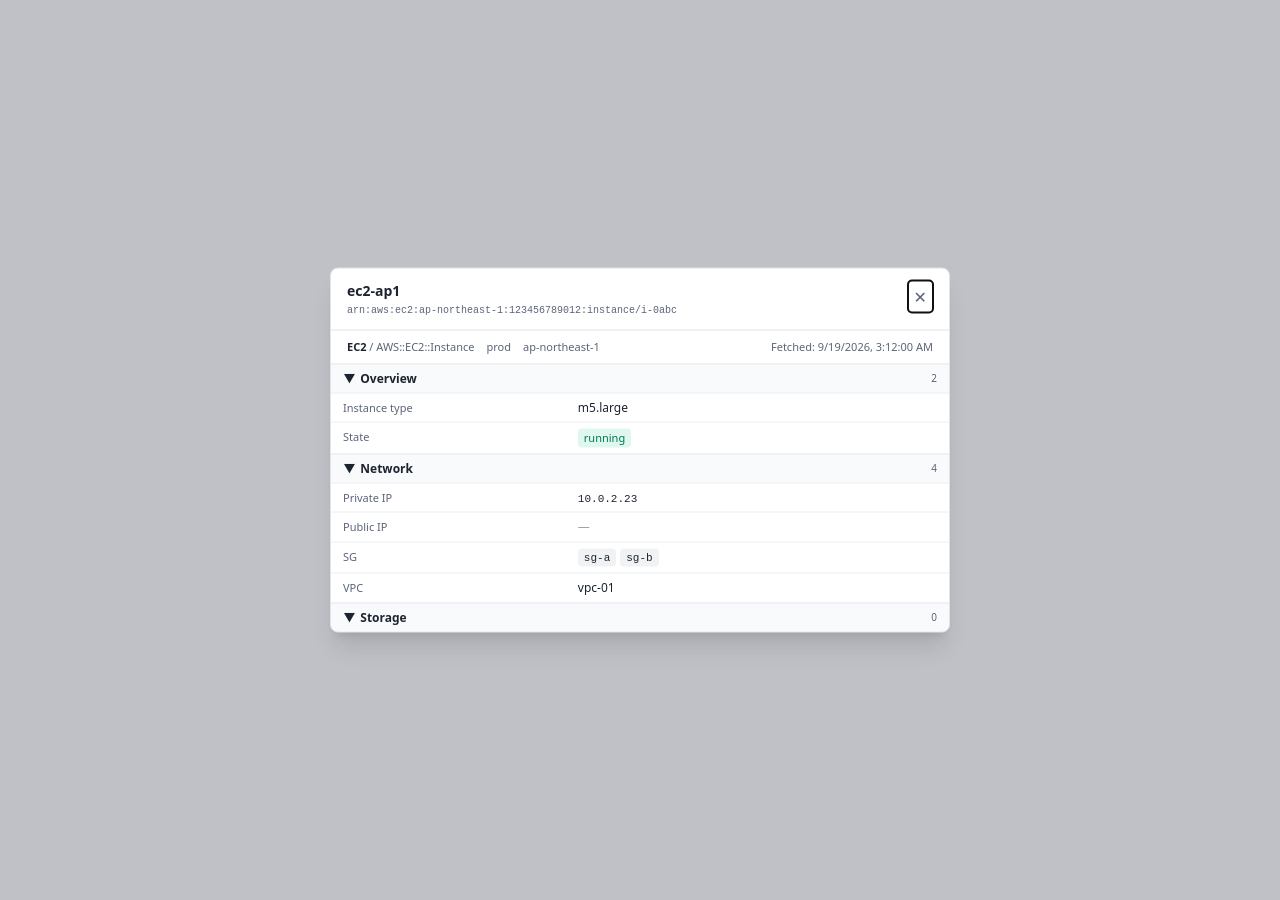
Test: the parameter popup › a category can be collapsed
Expected: the text "m5.large" is shown, 578,398 -> 628,415
Click the button "▶ Overview 2": x=389, y=378 331,364 -> 949,392
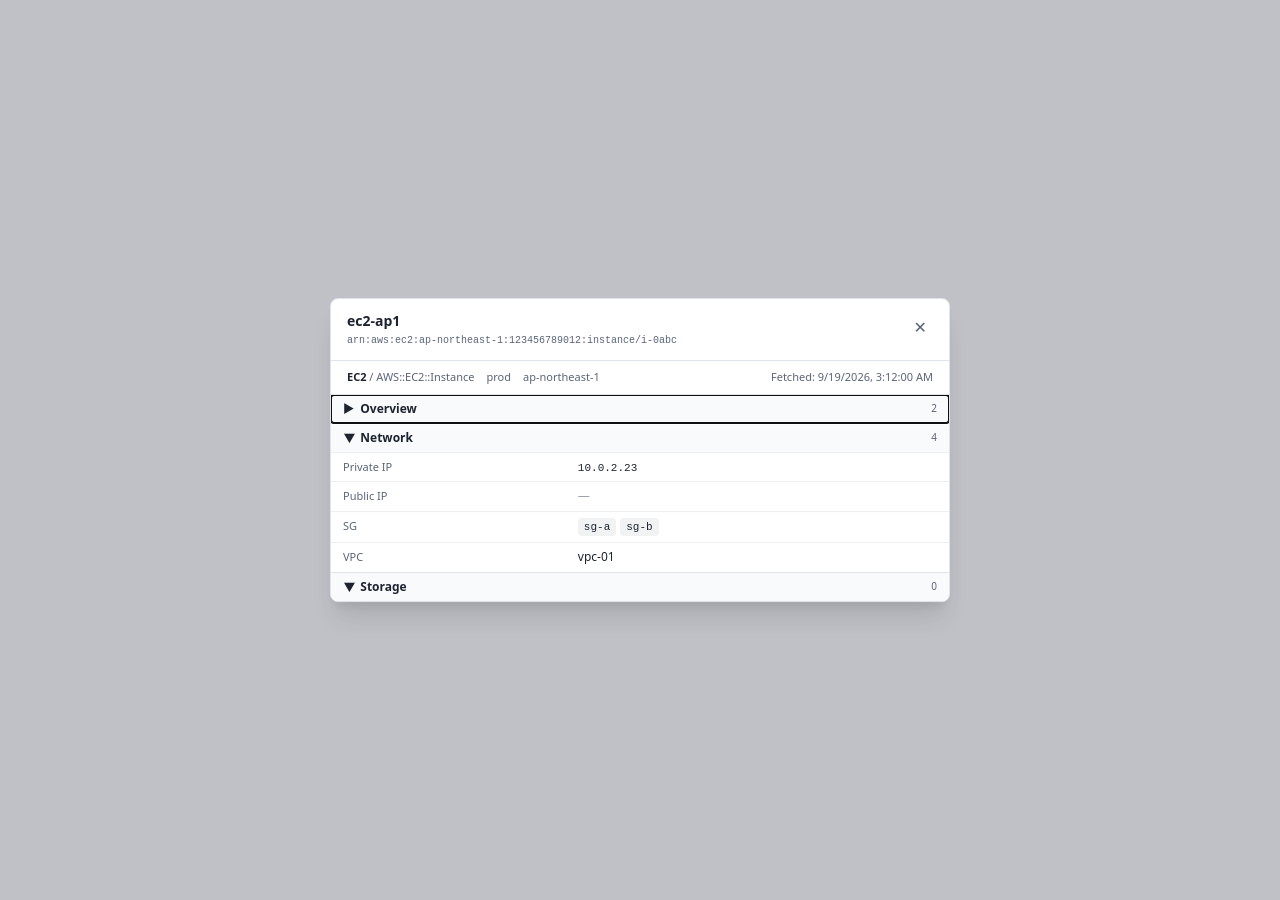
Now the text "m5.large" is gone
